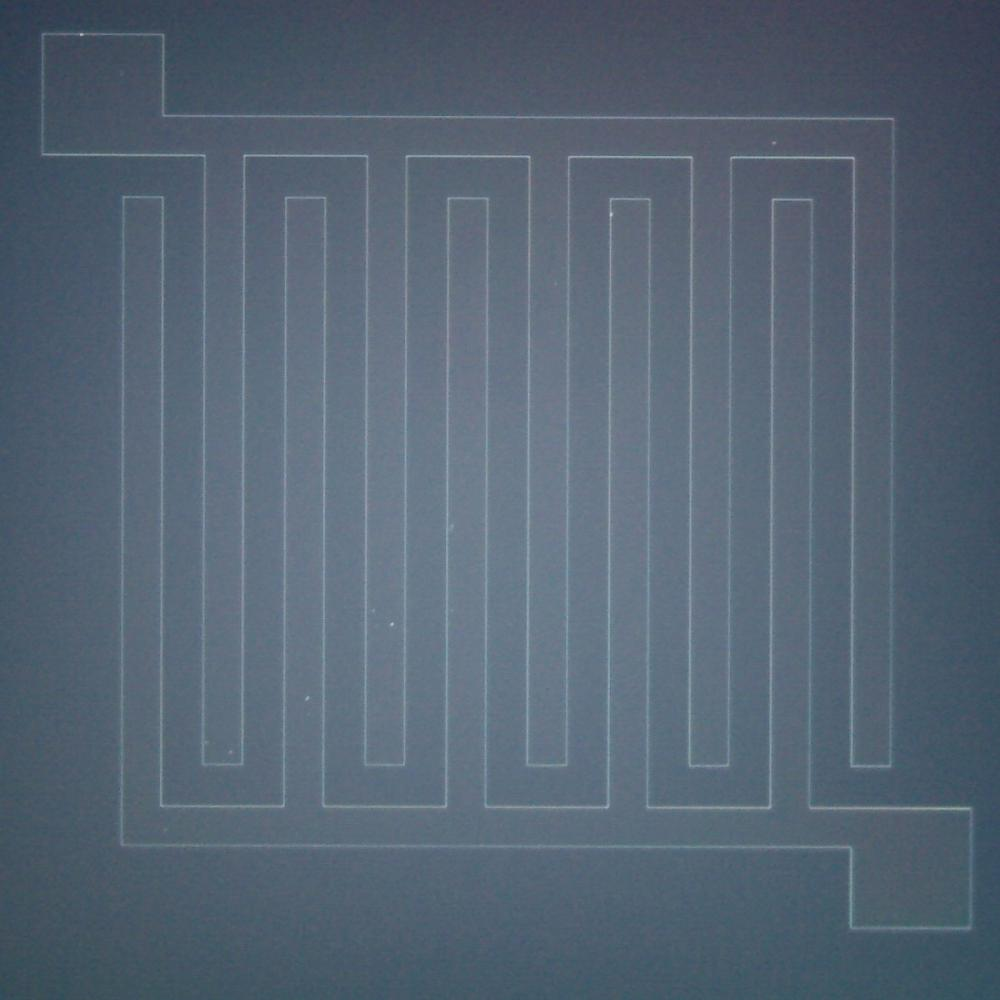dot: (371, 608, 376, 613), (305, 696, 310, 700), (204, 740, 208, 744), (229, 750, 233, 754), (772, 141, 776, 144), (390, 622, 393, 626)
